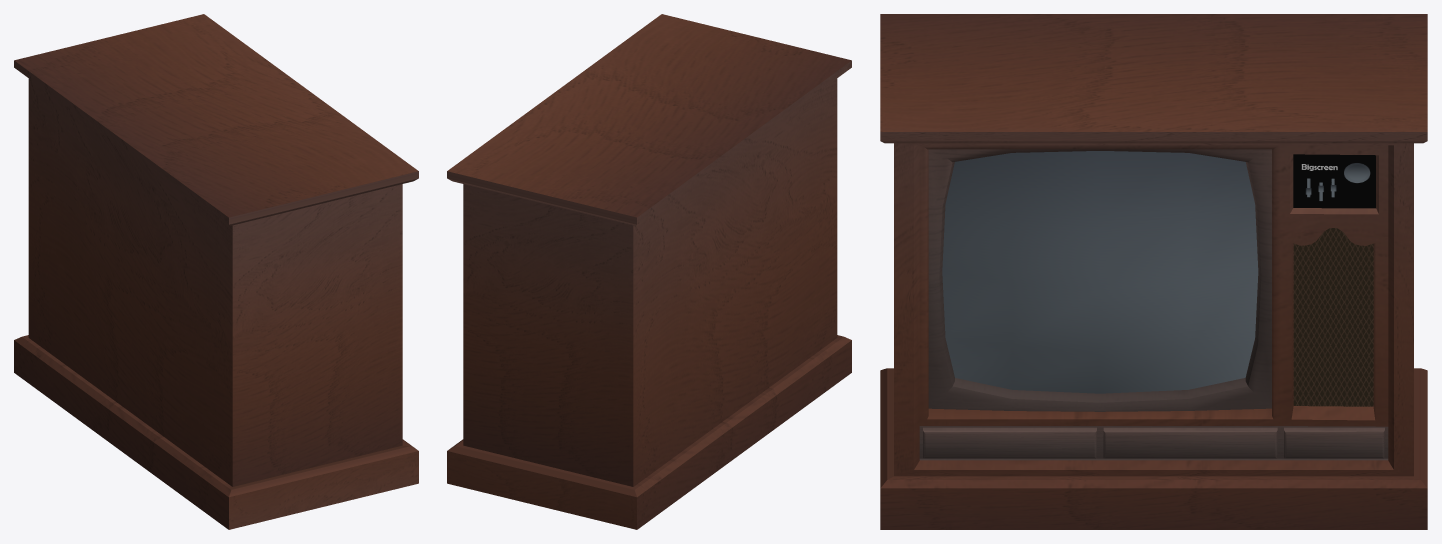
3 views of the same model, side by side, from view 1: azimuth 30°, elevation 25°; view 2: azimuth 150°, elevation 25°; view 3: azimuth 270°, elevation 25° (orthographic). The views are drawn at different scales.
Visible parts, largest first — view 1: TV; view 2: TV; view 3: TV.
Boxes of the visible parts, x1=… form: TV: x1=14, y1=14, x2=418, y2=529; TV: x1=447, y1=14, x2=851, y2=529; TV: x1=880, y1=14, x2=1427, y2=529.
Size of the model in its own units: 421 by 662 by 825.
